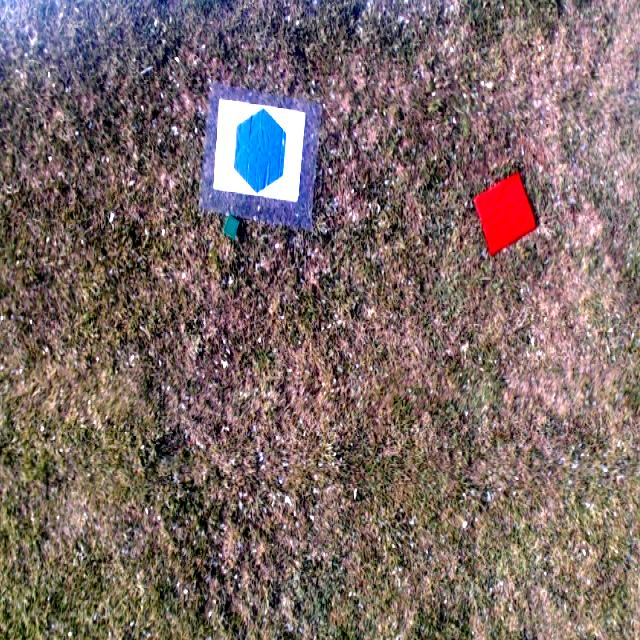blue_hexagon: (233, 108, 287, 193)
red_square: (474, 172, 538, 257)
